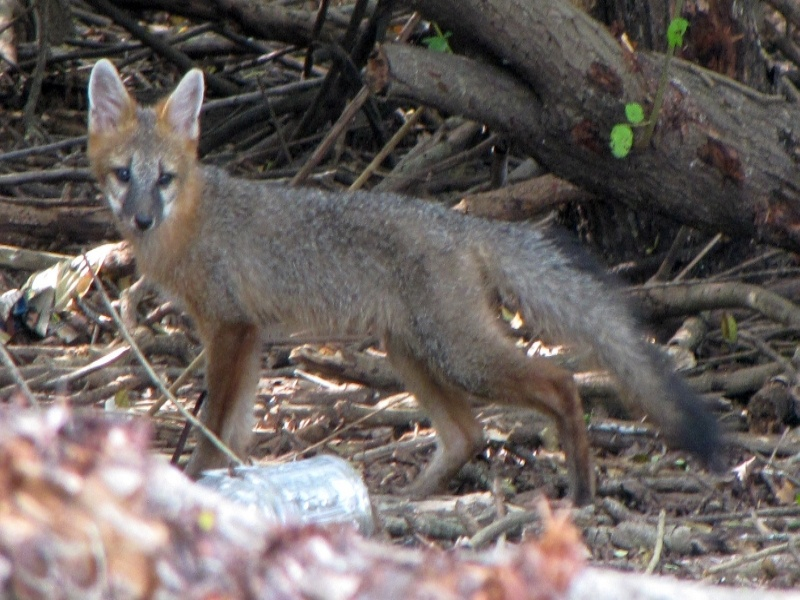fox: (82, 51, 725, 513)
